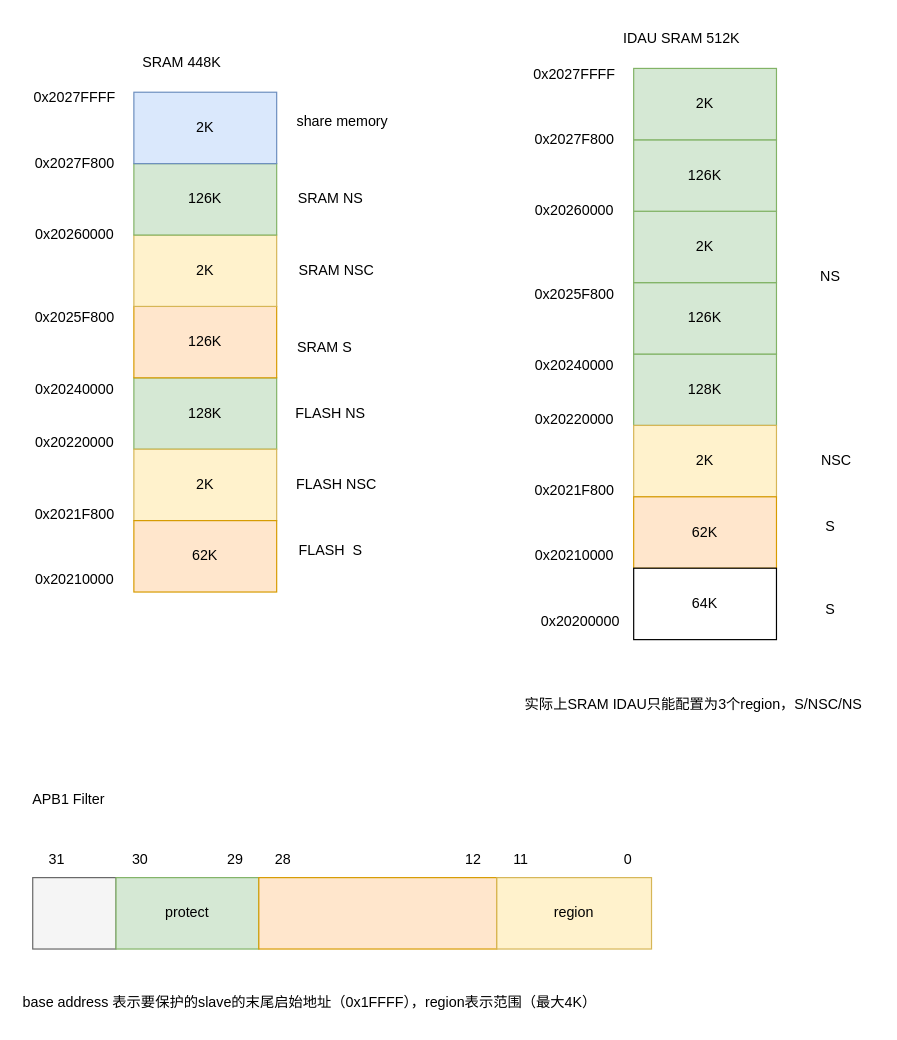
The diagram is 897 pixels wide and 1040 high, and some of its shapes have lost their labels. Here are the shapes that lost their labels. From the top down, the centre of each, then its label:
At point (74, 912): "valid".
At point (377, 912): "base address".
